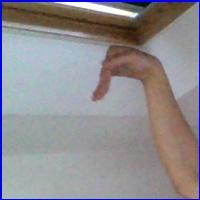del: (88, 37, 172, 106)
